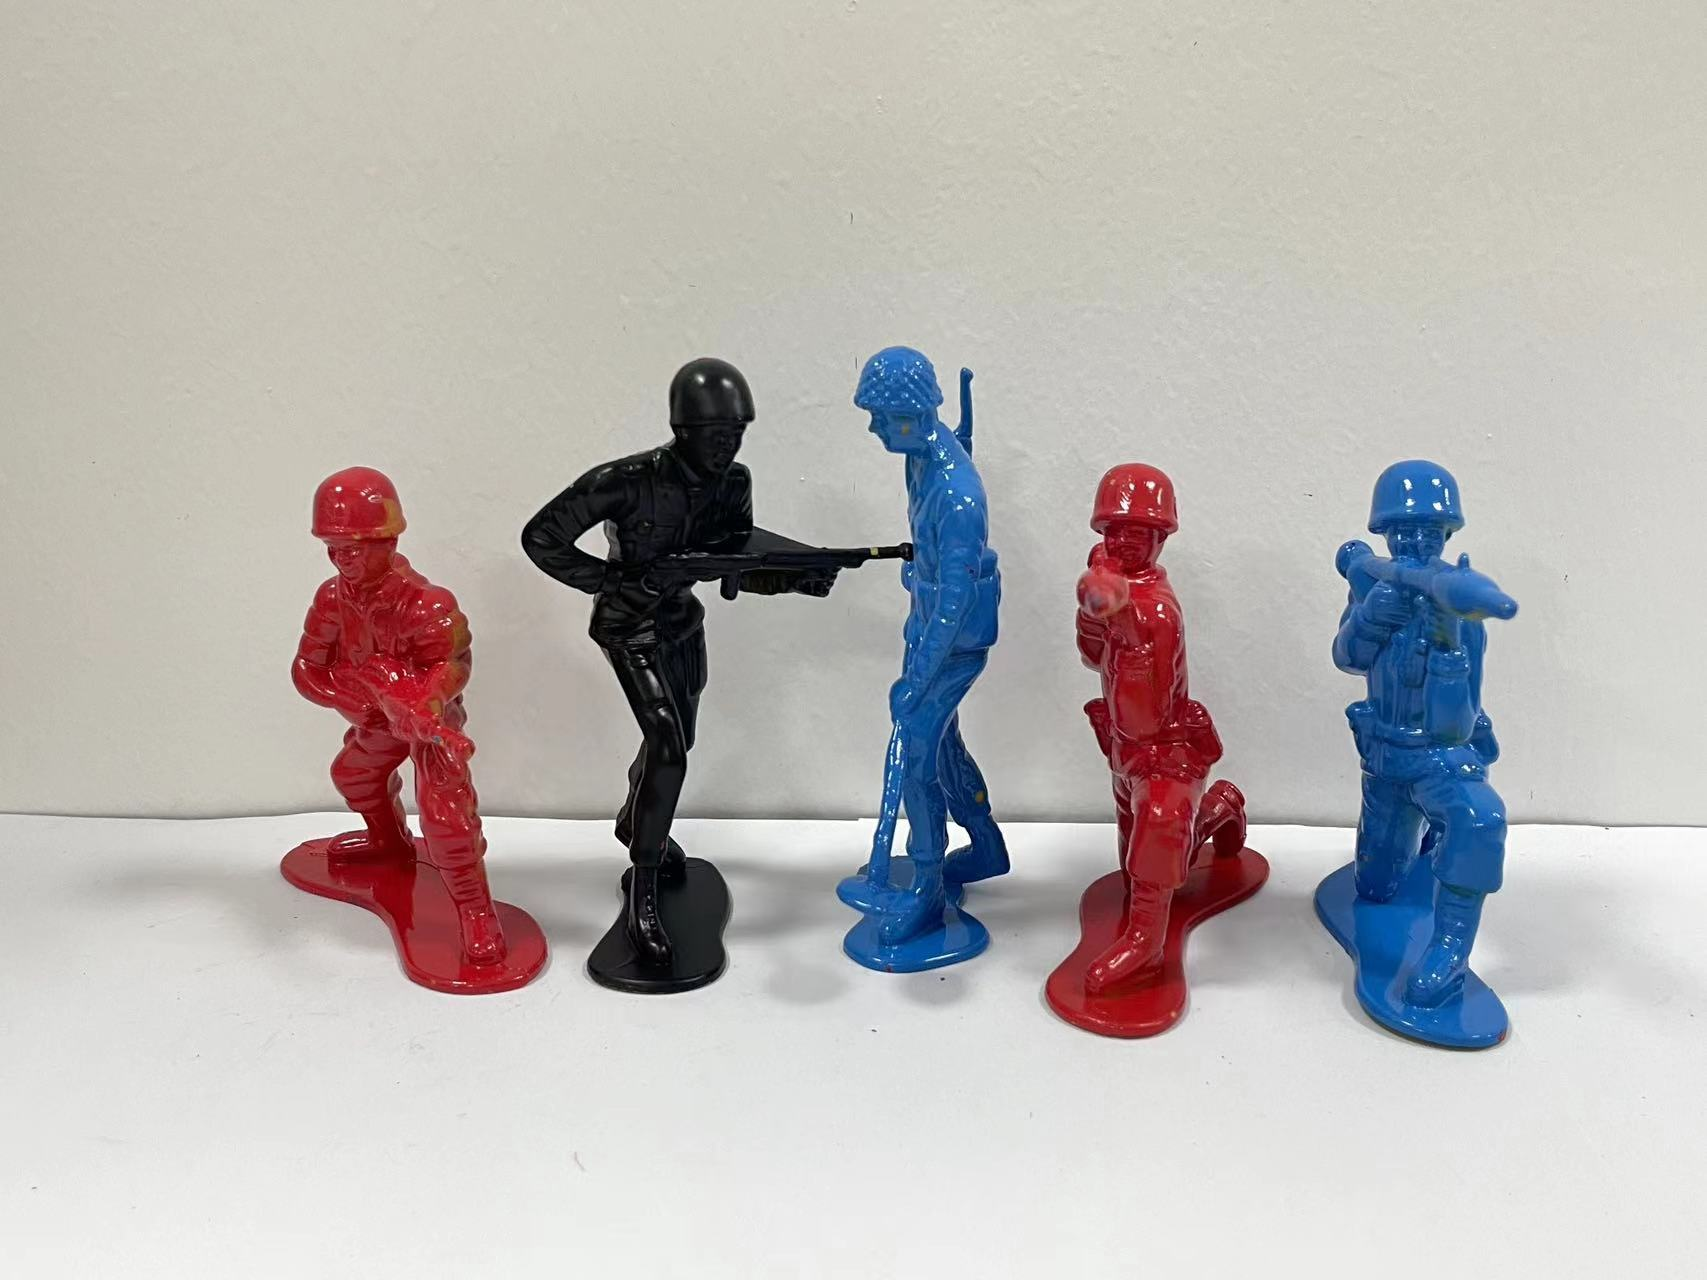black: (517, 331, 871, 1053)
blue: (1293, 406, 1612, 1111), (844, 319, 1044, 1023)
red: (265, 450, 552, 1041), (1044, 436, 1290, 1089)
